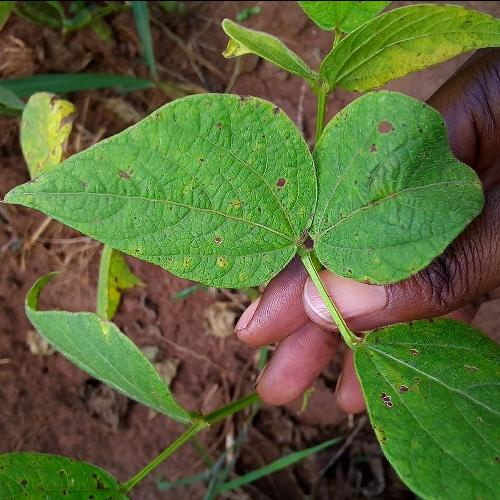hawar: (70, 105, 304, 298)
